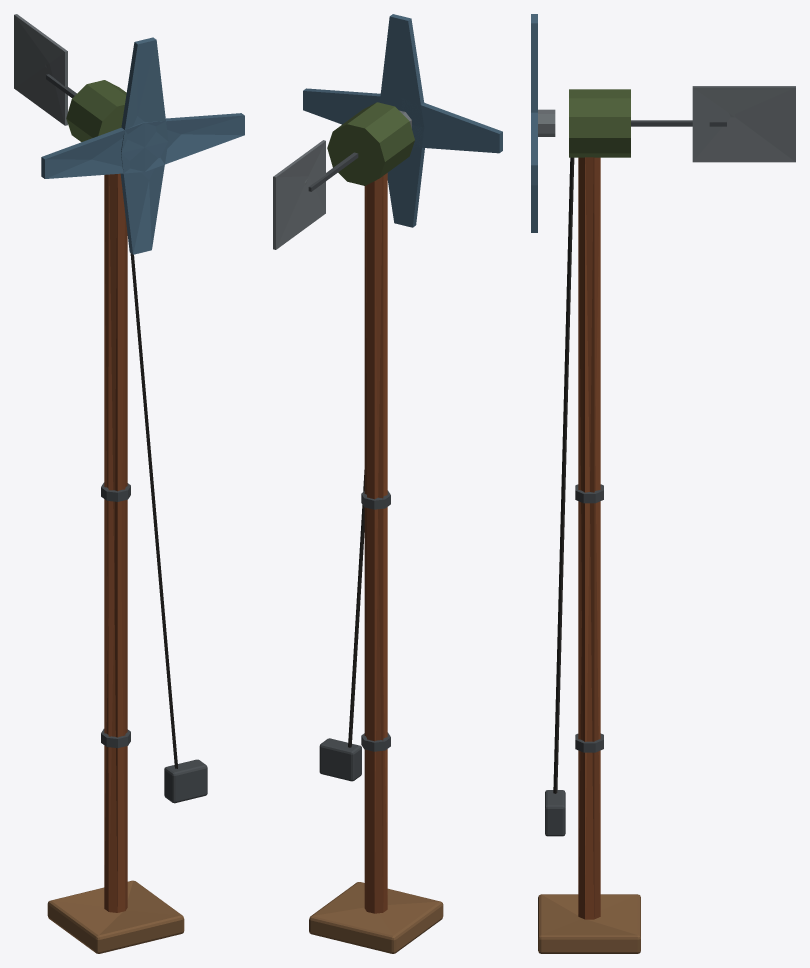
Rendered from wind_turbine_samodelnyy_iz_ventilyatora_idle.glb.
3 views of the same model, side by side, from view 1: azimuth 30°, elevation 25°; view 2: azimuth 150°, elevation 25°; view 3: azimuth 270°, elevation 25° (orthographic). The views are drawn at different scales.
Parts seen in each view (by area): view 1: wind_turbine_samodelnyy_iz_ventilyatora_idle; view 2: wind_turbine_samodelnyy_iz_ventilyatora_idle; view 3: wind_turbine_samodelnyy_iz_ventilyatora_idle.
Boxes of the visible parts, left/top/right/bottom form: wind_turbine_samodelnyy_iz_ventilyatora_idle: left=14, top=14, right=244, bottom=953; wind_turbine_samodelnyy_iz_ventilyatora_idle: left=273, top=14, right=502, bottom=953; wind_turbine_samodelnyy_iz_ventilyatora_idle: left=531, top=14, right=795, bottom=953.
Size of the model in its own units: 0.68 by 2.94 by 0.77.
1 material, 1 textured.
